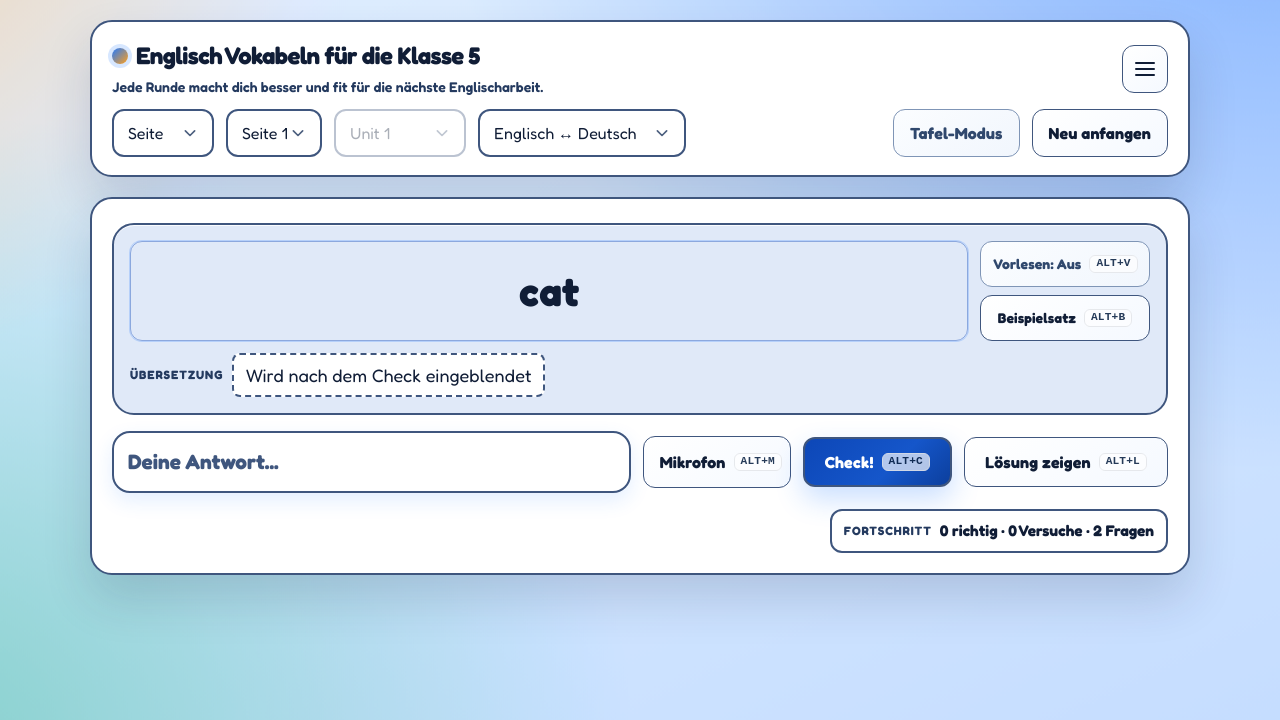
App › switches to irregular mode and validates irregular answers
The width and height of the screenshot is (1280, 720).
Select "Irreguläre Verben" in the dropdown named "Richtung": (582, 133) top-left (478, 109), bottom-right (686, 157)
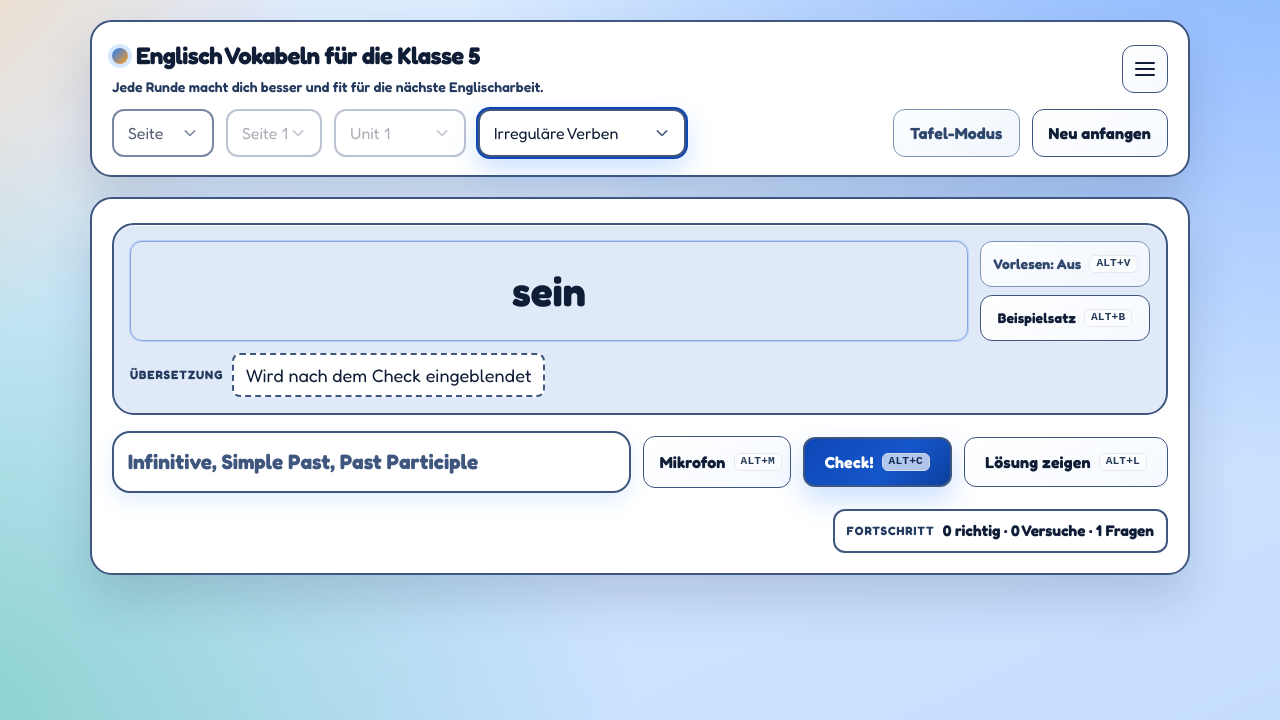
Check: the text "sein" is shown, box top-left (130, 241), bottom-right (968, 341)
In the field with placeholder "Infinitive, Simple Past, Past Participle": (371, 462) top-left (112, 431), bottom-right (631, 493), type "be, was, been"
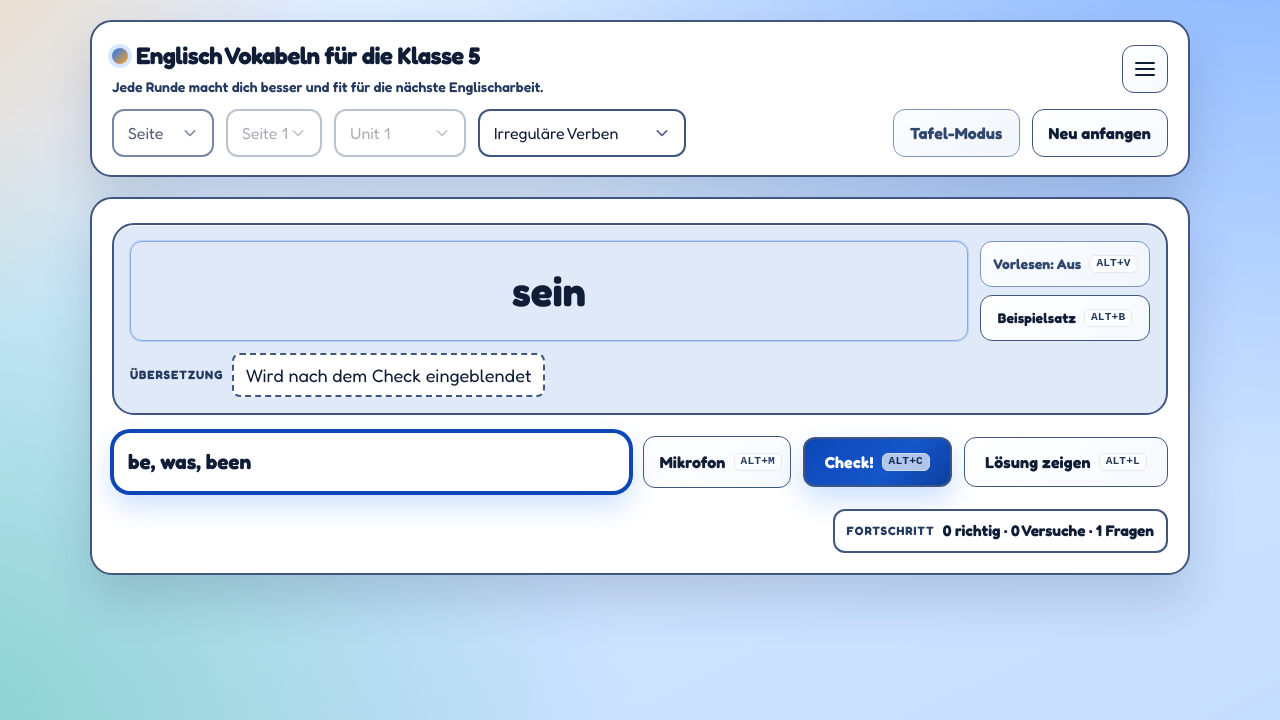
Click the button "Check! Alt+C": (877, 462) top-left (803, 437), bottom-right (952, 487)
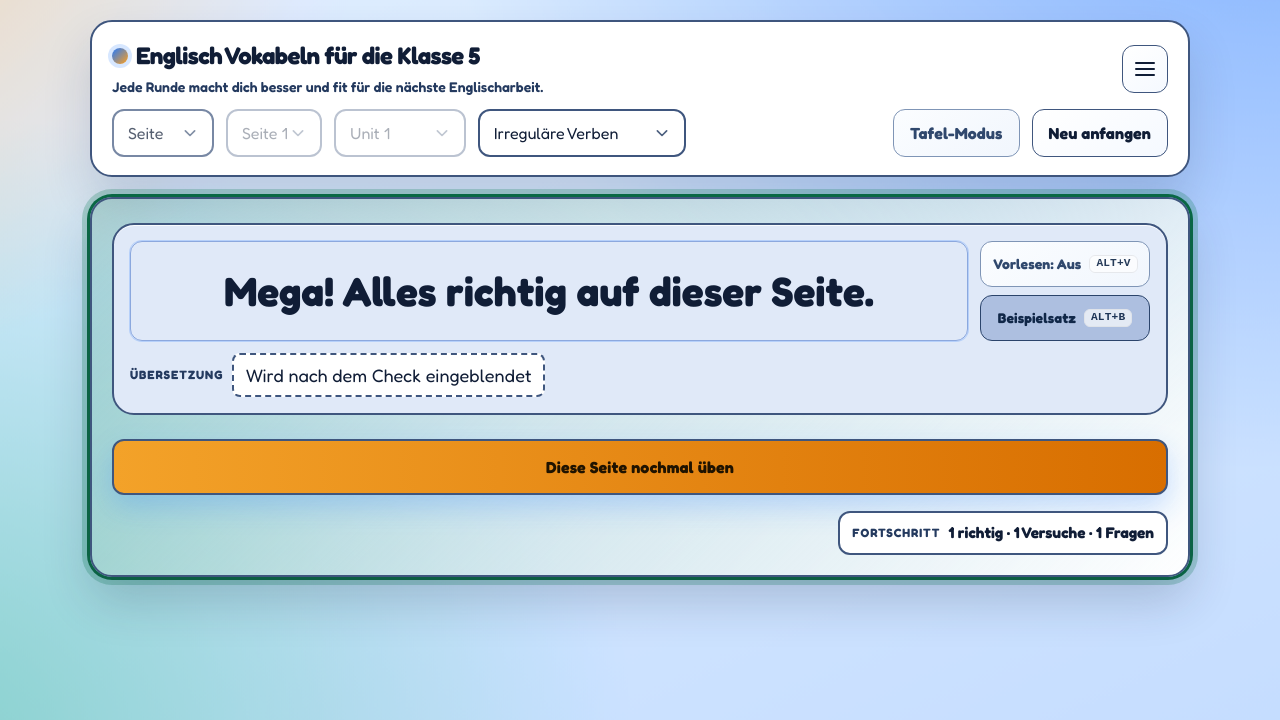
Check: the text "1 richtig · 1 Versuche · 1 Fragen" is shown, box top-left (948, 523), bottom-right (1154, 543)
